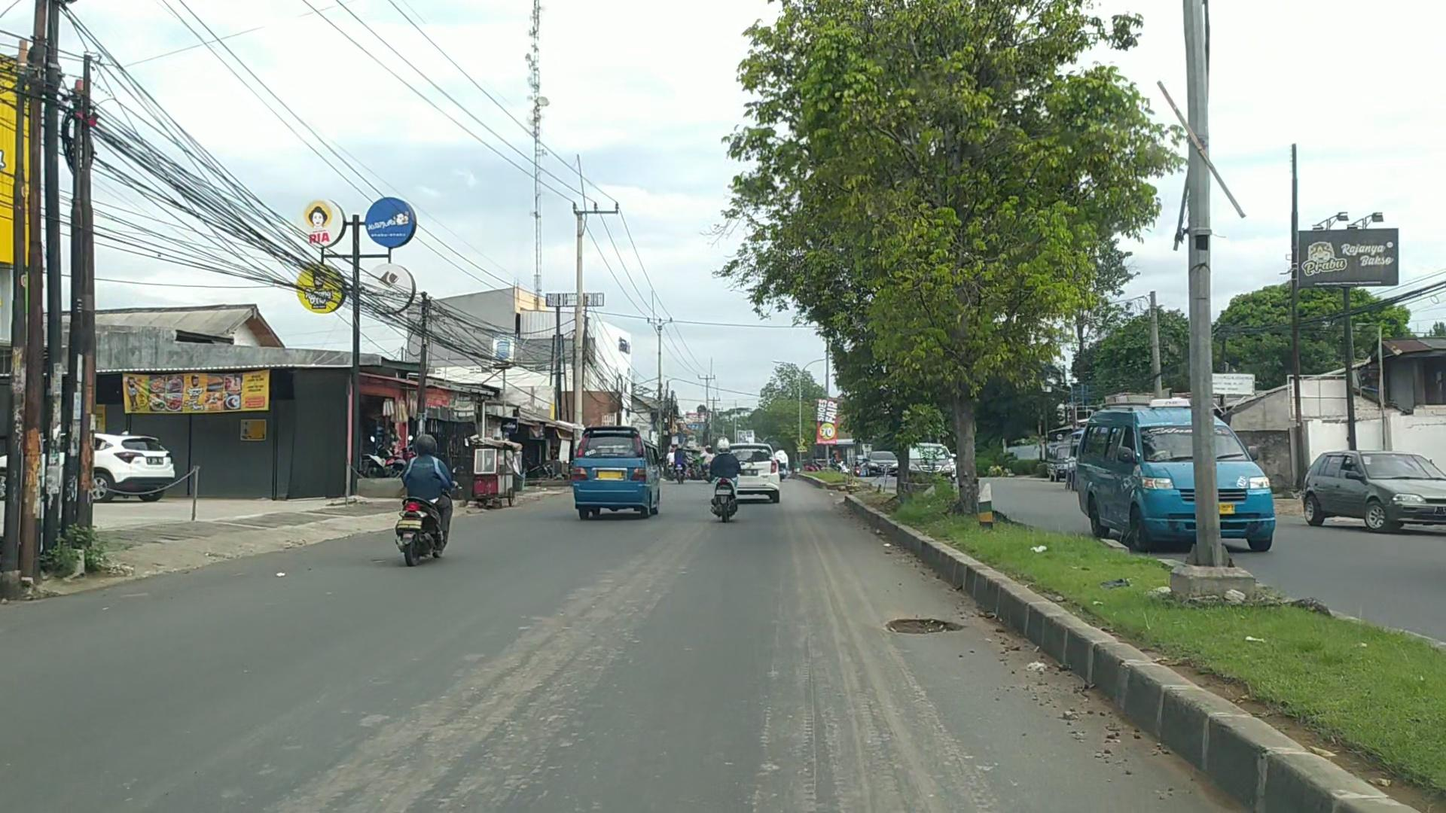pothole: (883, 617, 963, 638)
